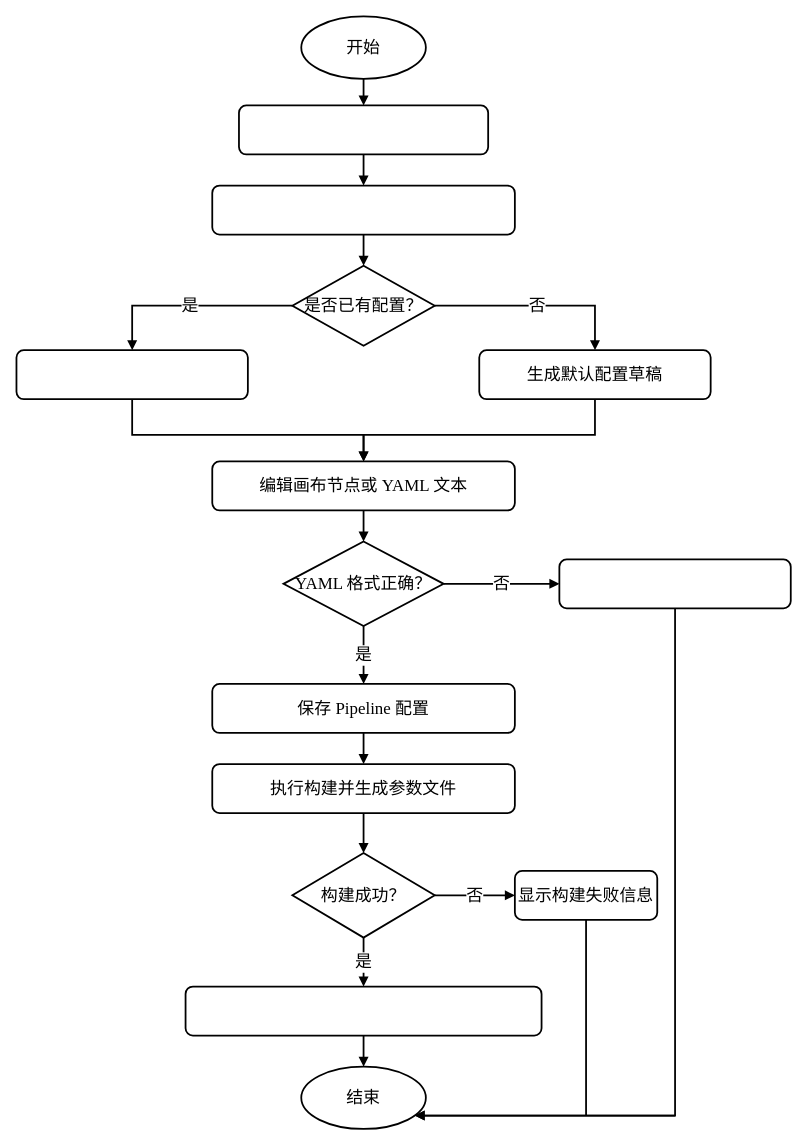
The diagram is 806 pixels wide and 1145 high, and some of its shapes have lost their labels. Each missing label, with the centre of its shape:
"显示格式错误提示" belongs at point 674,583.
"读取 Pipeline YAML" belongs at point 131,374.
"进入 Builder 构建页面" belongs at point 363,129.
"进入参数面板或 Prompt 面板继续调整" belongs at point 363,1010.
"选择已有 Pipeline 或新建 Pipeline" belongs at point 363,209.
